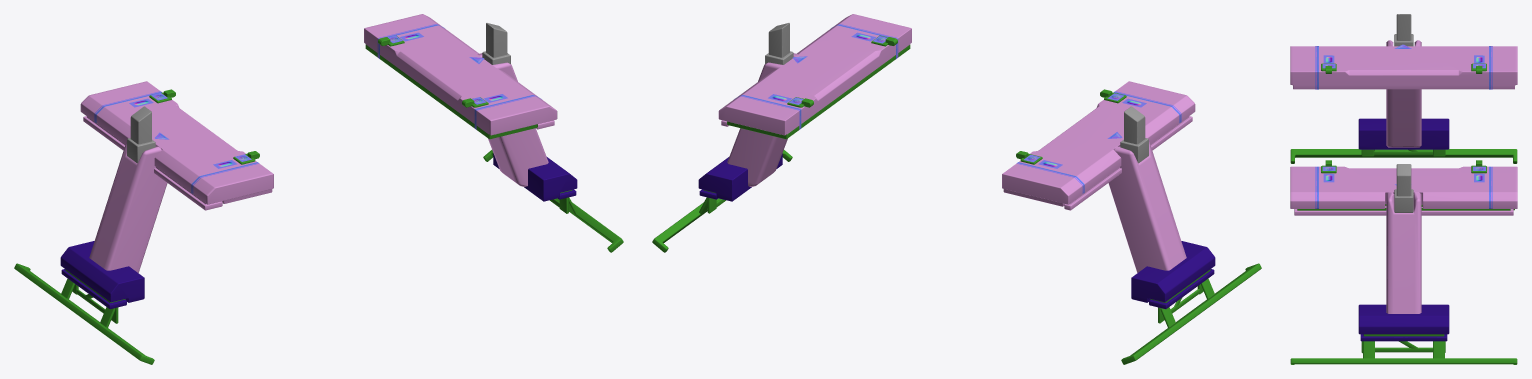
Rendered from BridgeExtension.FBX.
3 renders of one model, left to right at view 1: azimuth 30°, elevation 25°; view 2: azimuth 150°, elevation 25°; view 3: azimuth 270°, elevation 25°, orthographic. The views are drawn at different scales.
Parts seen in each view (by area): view 1: SM_SideFloor_009, Box026, SM_SideFloor_010, Object002, SM_SideFloor_011, Box025; view 2: SM_SideFloor_009, Box026, SM_SideFloor_010, Object002, SM_SideFloor_011, Box025; view 3: SM_SideFloor_009, SM_SideFloor_010, Box026, Object002, SM_SideFloor_011, Box025.
Boxes of the visible parts, <box> form: SM_SideFloor_009: <box>80,14,557,210</box>; Box026: <box>89,53,548,272</box>; SM_SideFloor_010: <box>14,150,623,364</box>; Object002: <box>127,23,510,163</box>; SM_SideFloor_011: <box>94,24,541,193</box>; Box025: <box>149,35,488,164</box>; SM_SideFloor_009: <box>718,14,1195,210</box>; Box026: <box>727,53,1186,272</box>; SM_SideFloor_010: <box>652,150,1261,364</box>; Object002: <box>765,23,1148,163</box>; SM_SideFloor_011: <box>734,24,1181,193</box>; Box025: <box>787,35,1126,164</box>; SM_SideFloor_009: <box>1290,46,1517,215</box>; SM_SideFloor_010: <box>1290,118,1517,364</box>; Box026: <box>1386,40,1421,313</box>; Object002: <box>1394,14,1413,212</box>; SM_SideFloor_011: <box>1315,46,1492,208</box>; Box025: <box>1321,63,1486,173</box>.
Size of the model in its own units: 206 by 79.46 by 93.4.
